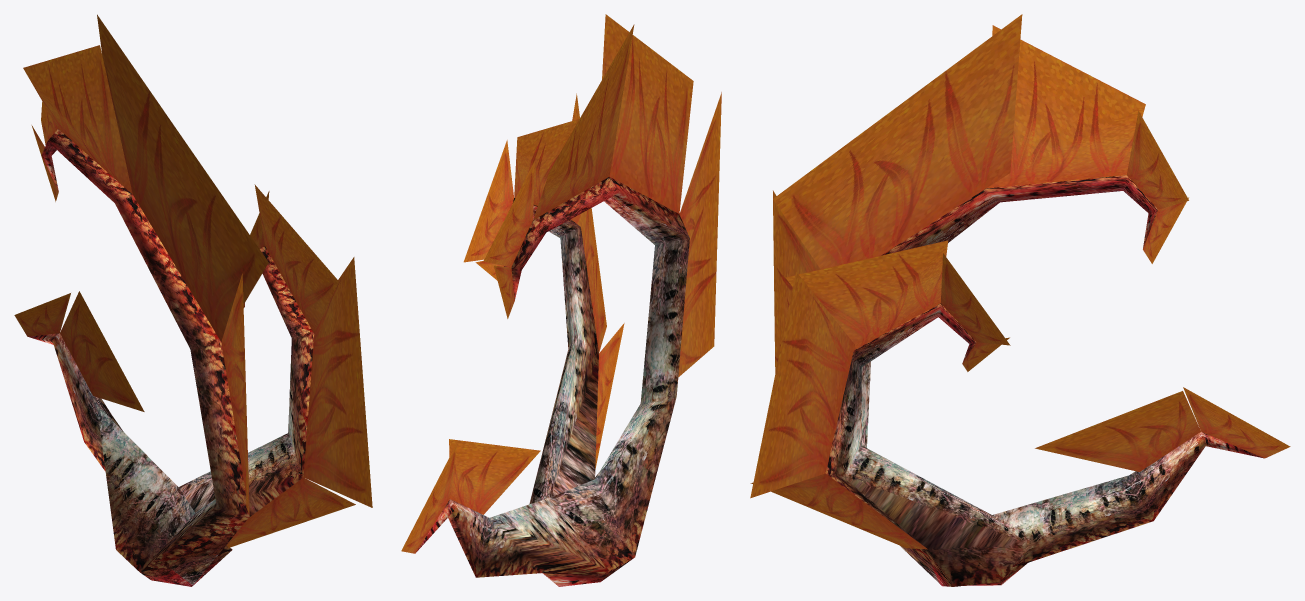
The model's file is leaf_tals_razorcoil_l1.fbx.
The picture shows the model from 3 angles, left to right: view 1: azimuth 30°, elevation 25°; view 2: azimuth 150°, elevation 25°; view 3: azimuth 270°, elevation 25°; orthographic projection. The views are drawn at different scales.
Parts seen in each view (by area): view 1: mesh_node; view 2: mesh_node; view 3: mesh_node.
Part boxes in pixels (box(x1,y1,x2,y2)): mesh_node: box(14, 14, 372, 586); mesh_node: box(401, 14, 721, 586); mesh_node: box(750, 14, 1290, 586).
Bounding box in the file's own units: 0.7339 × 2.53 × 2.27.
